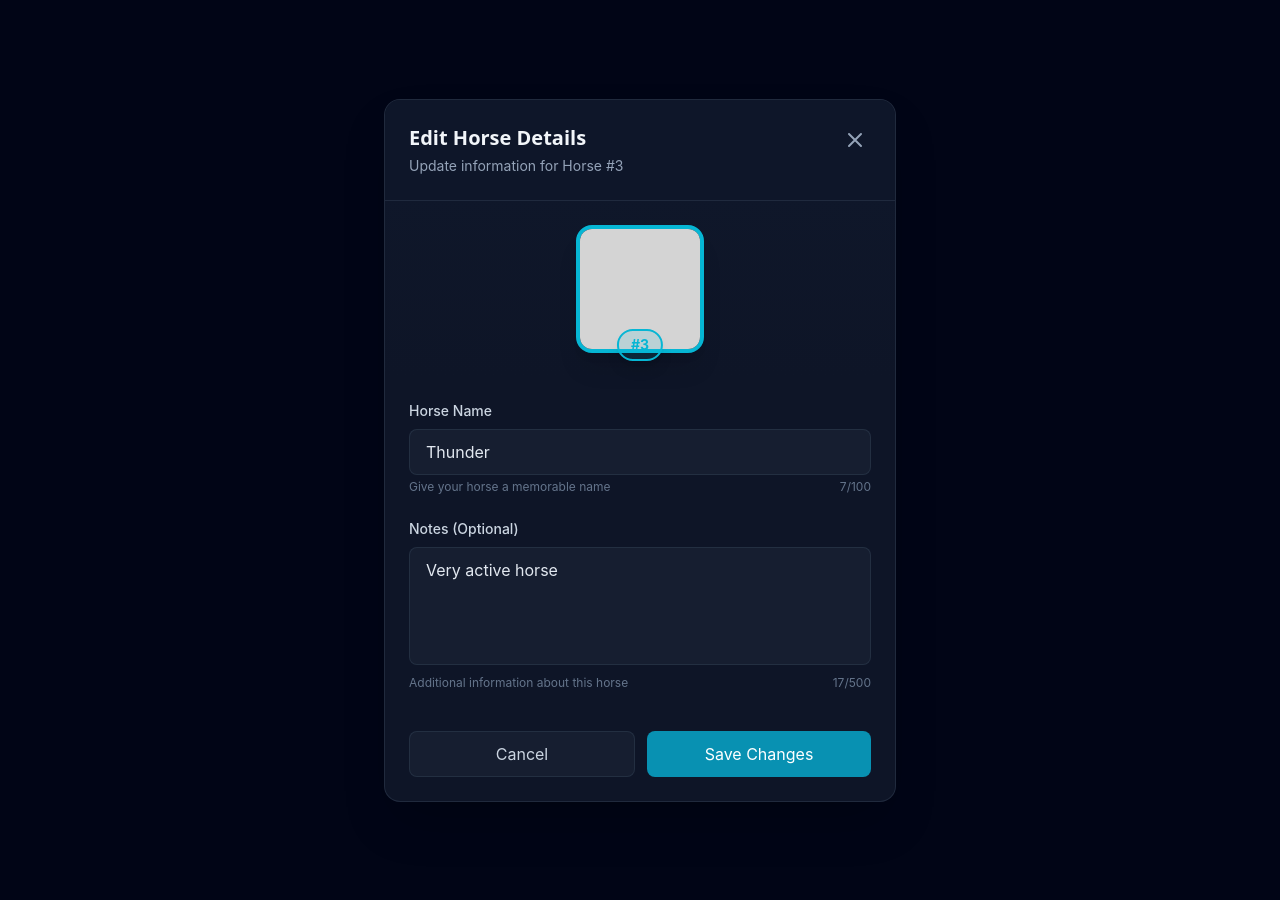
it: HorseEditModal › Form Submission › should show error toast on save failure
The width and height of the screenshot is (1280, 900).
Replace the text in the field labelled "Horse Name" with "Storm": (640, 452) left=409, top=428, right=871, bottom=474
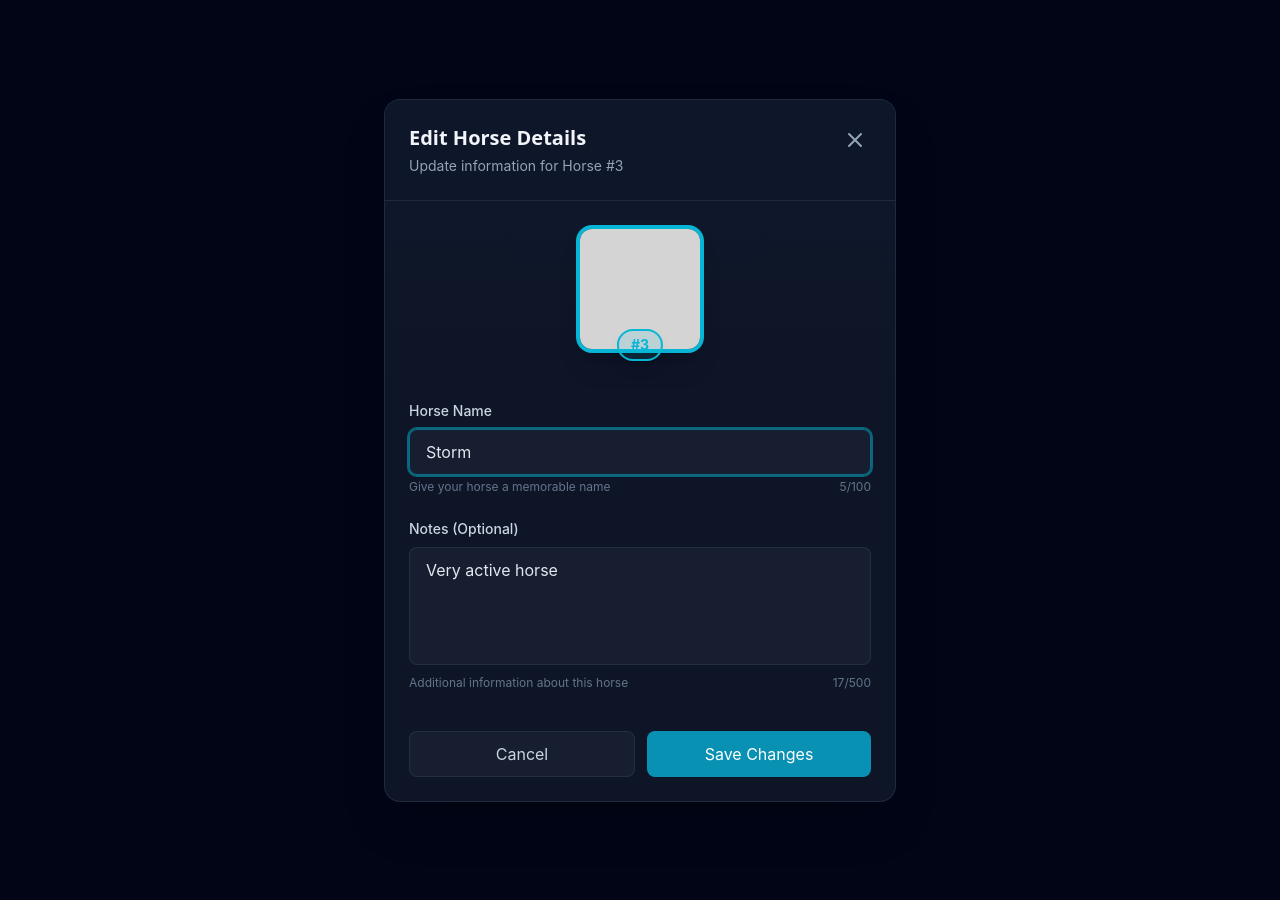
Click the button "Save Changes": (759, 754) left=647, top=730, right=871, bottom=776
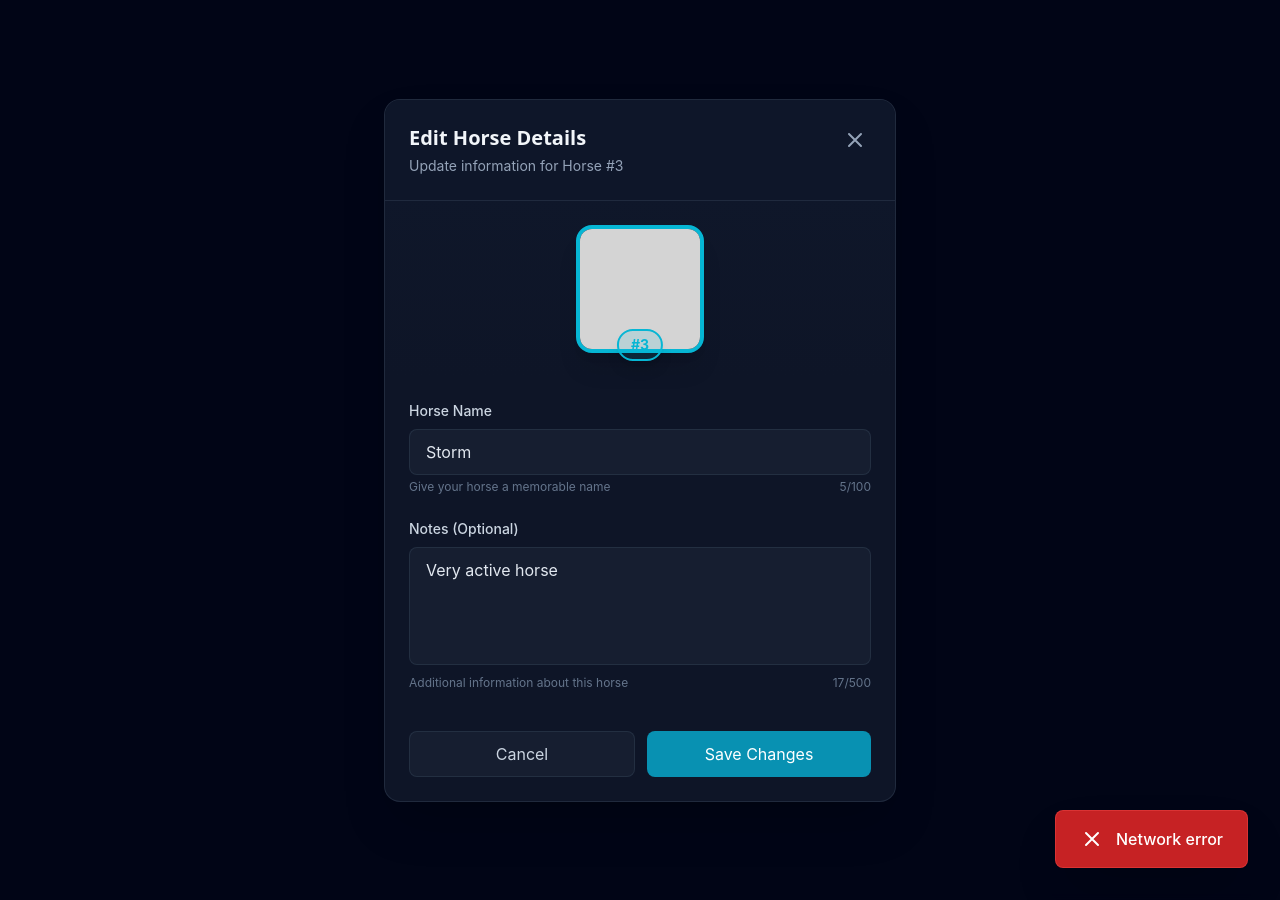
Now the text "Network error" is shown, box left=1116, top=827, right=1223, bottom=851
